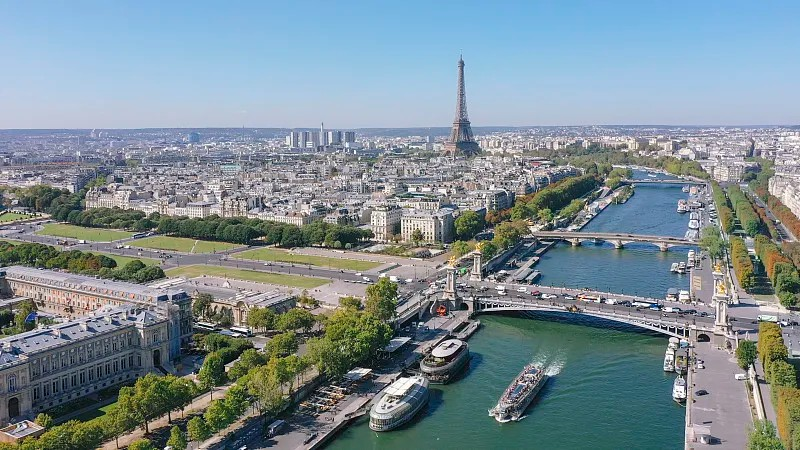Eiffel: (442, 47, 481, 161)
